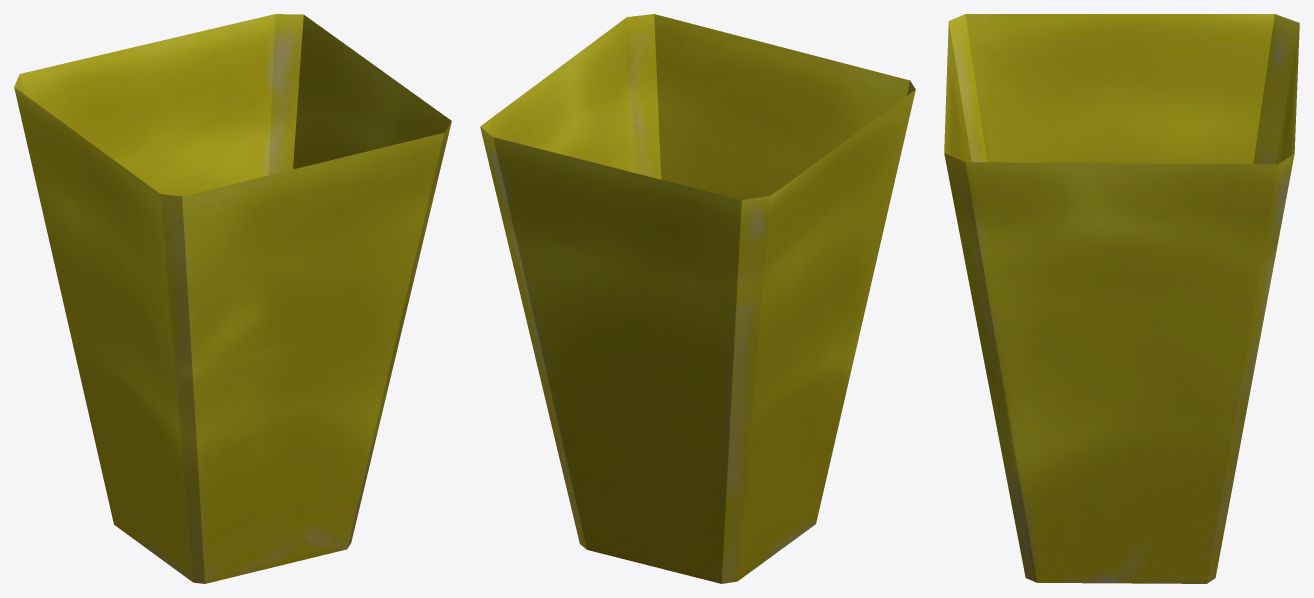
The model's file is tonne_collider_v0.fbx.
3 views of the same model, side by side, from view 1: azimuth 30°, elevation 25°; view 2: azimuth 150°, elevation 25°; view 3: azimuth 270°, elevation 25° (orthographic). The views are drawn at different scales.
Parts seen in each view (by area): view 1: polySurface2; view 2: polySurface2; view 3: polySurface2.
Boxes of the visible parts, x1,y1,x2,y2 form: polySurface2: (14,14,451,583); polySurface2: (480,14,915,583); polySurface2: (944,14,1299,583).
Size of the model in its own units: 0.3282 by 0.4645 by 0.3282.
